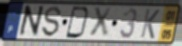3: (119, 7, 138, 40)
D: (64, 6, 91, 41)
K: (139, 9, 161, 41)
N: (16, 4, 46, 39)
S: (41, 6, 63, 39)
X: (89, 7, 114, 40)
